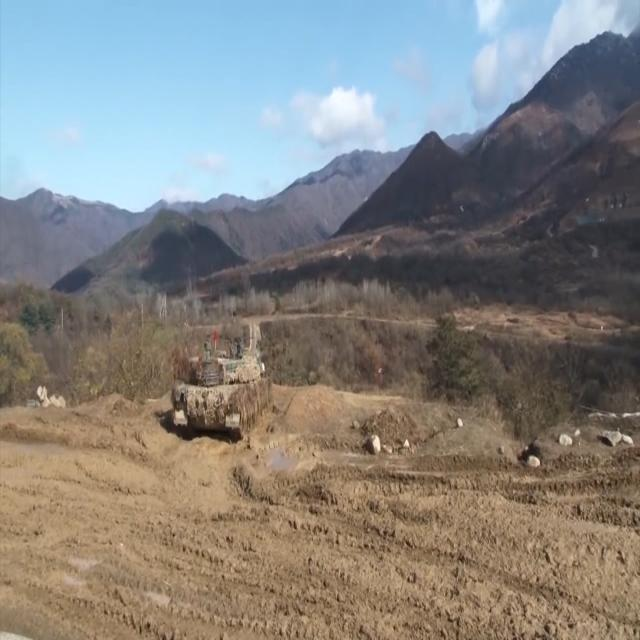korea tank: (172, 323, 298, 438)
